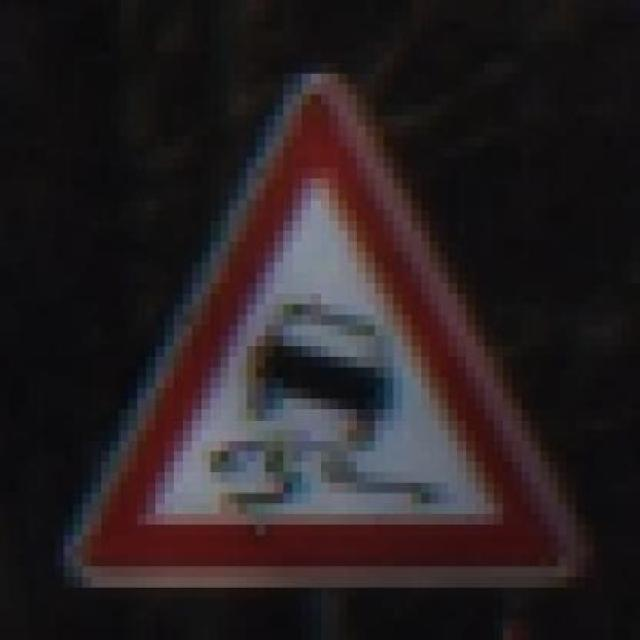Slippery Road Ahead: (58, 53, 590, 599)
